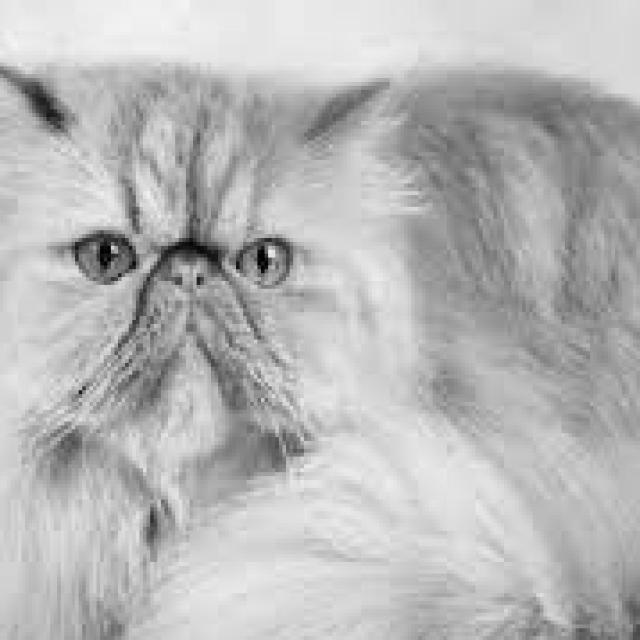iran: (8, 182, 366, 476)
